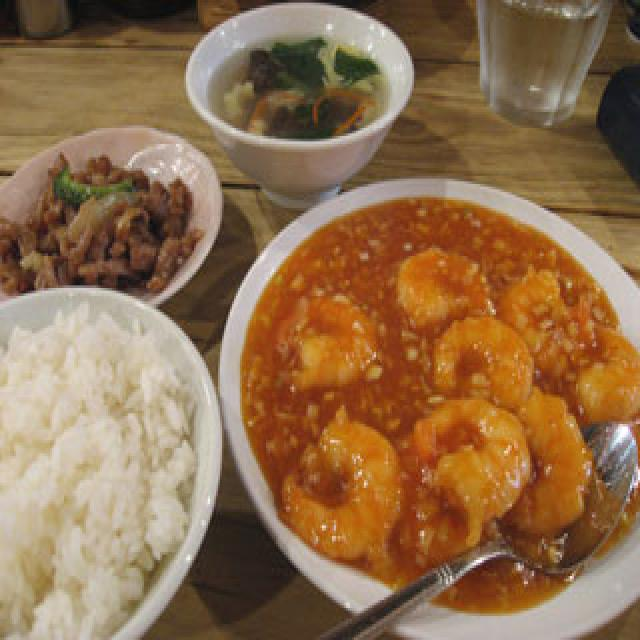熟制海鲜: (220, 176, 640, 640)
